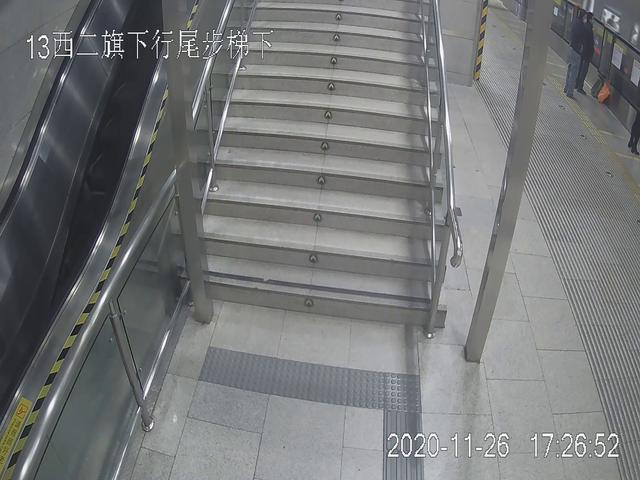person: (563, 9, 591, 97), (577, 11, 602, 96)
